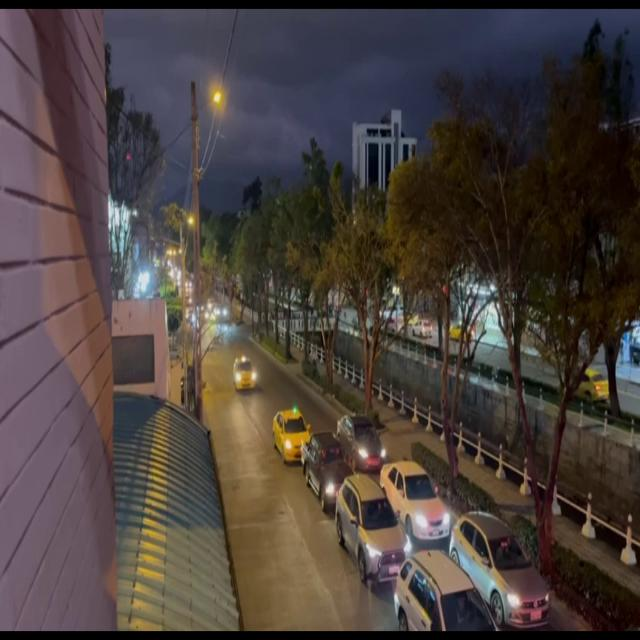CMT: (300, 430, 352, 503)
SUV: (336, 475, 406, 578)
